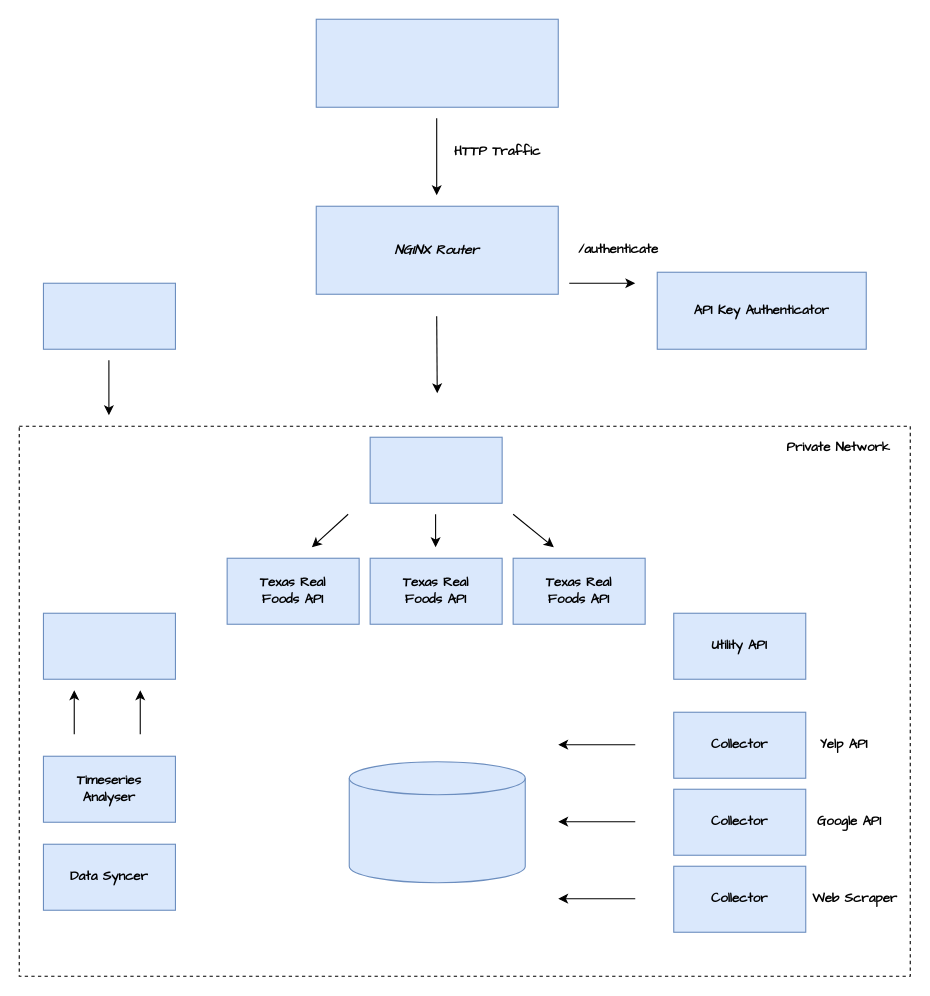
Image size: 930x996. Some labels were removed from this diagram. Each missing label, with the box of its shape:
NGINX Loadbalancer: (369, 436, 502, 503)
NGINX Reverse Proxy: (315, 18, 558, 107)
Notifications API: (42, 612, 175, 679)
Notifications UI: (42, 282, 175, 349)
Postgres Database: (348, 761, 525, 883)
